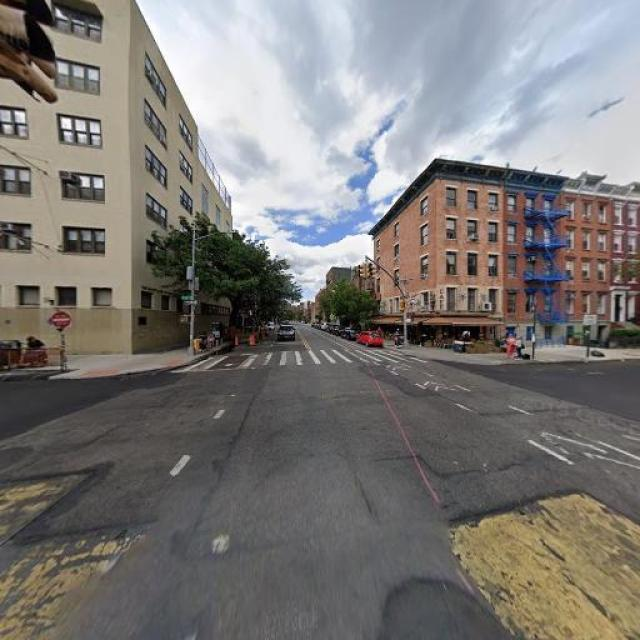Building: (1, 1, 234, 363), (377, 159, 500, 347), (505, 172, 573, 344)
